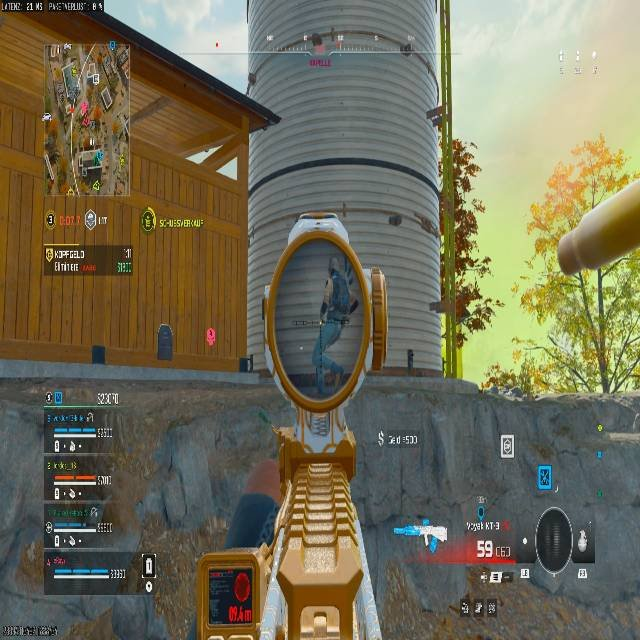player: (312, 268, 359, 377), (154, 322, 175, 362)
